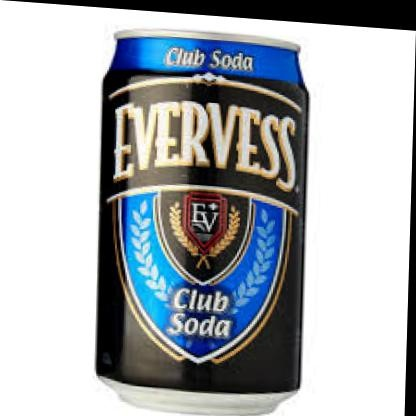trash: (97, 31, 307, 391)
